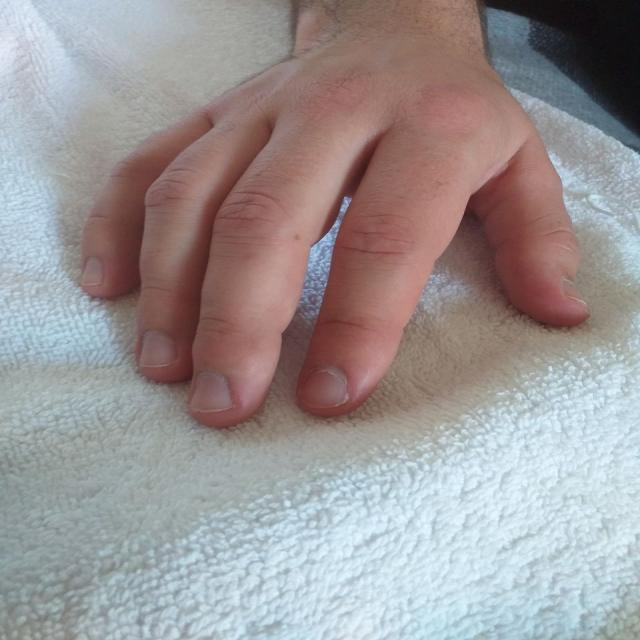Nail: (298, 366, 350, 410), (190, 370, 232, 413), (140, 330, 176, 368), (82, 256, 104, 287), (564, 279, 585, 303)
